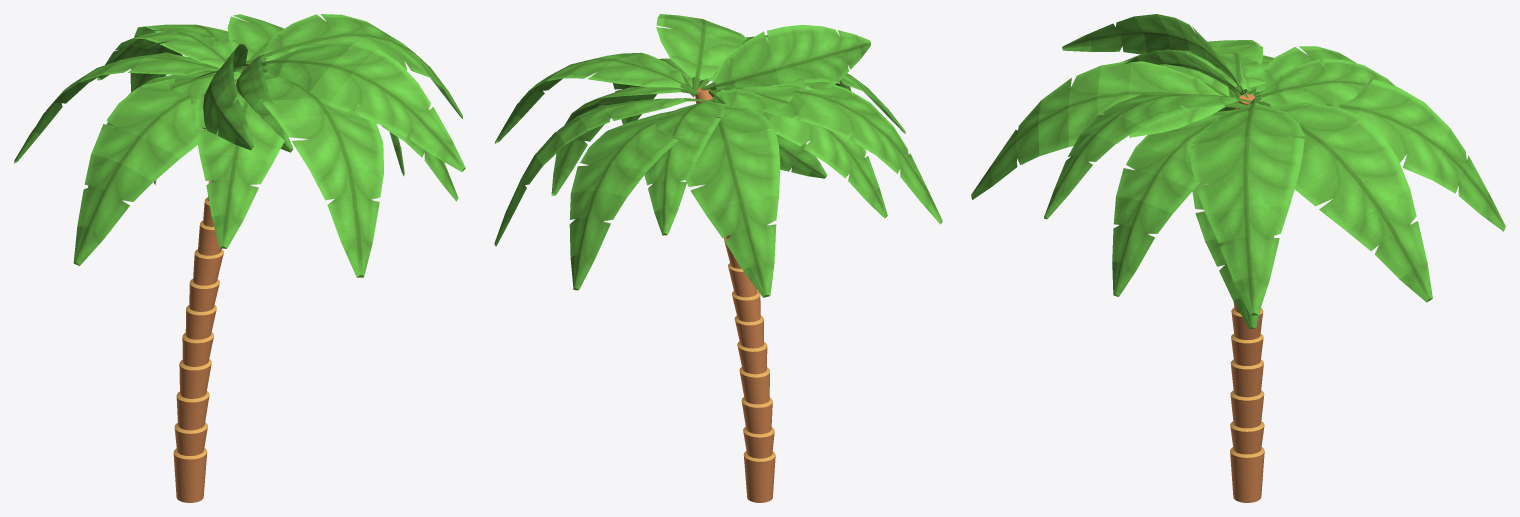
File: Palm Tree.fbx
3 views of the same model, side by side, from view 1: azimuth 30°, elevation 25°; view 2: azimuth 150°, elevation 25°; view 3: azimuth 270°, elevation 25° (orthographic). The views are drawn at different scales.
Parts seen in each view (by area): view 1: Palm Tree; view 2: Palm Tree; view 3: Palm Tree.
Part boxes in pixels (x1,y1,x2,y2): Palm Tree: [14, 14, 465, 502]; Palm Tree: [494, 14, 942, 502]; Palm Tree: [971, 14, 1505, 502].
Size of the model in its own units: 373 by 390 by 390.
